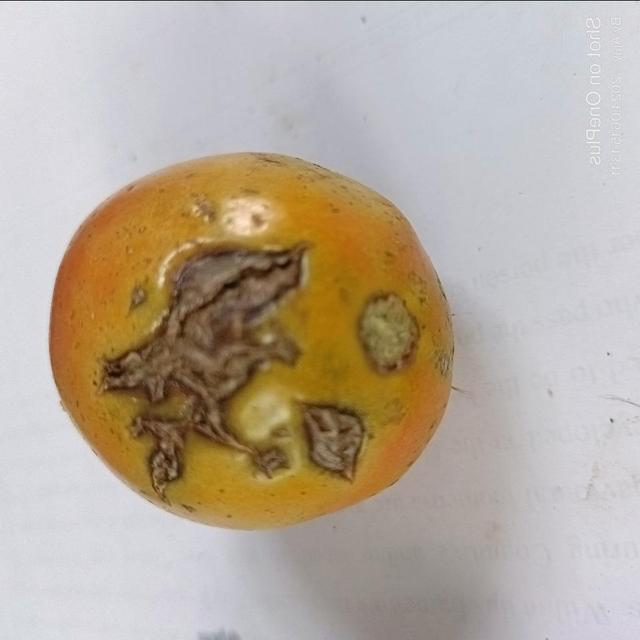Bacterial Spot Fruit: (42, 50, 258, 294)
